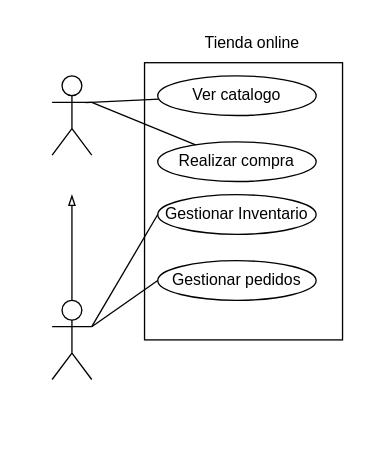
Some shapes in this 366 by 449 pixel diagram are drawn without their labels. The shapes that lost their labels are listed below. From the top down, each one's centre as x and y in pixels, then its label:
At point 71,115: "Actor Cliente".
At point 71,339: "Actor Administrador".
